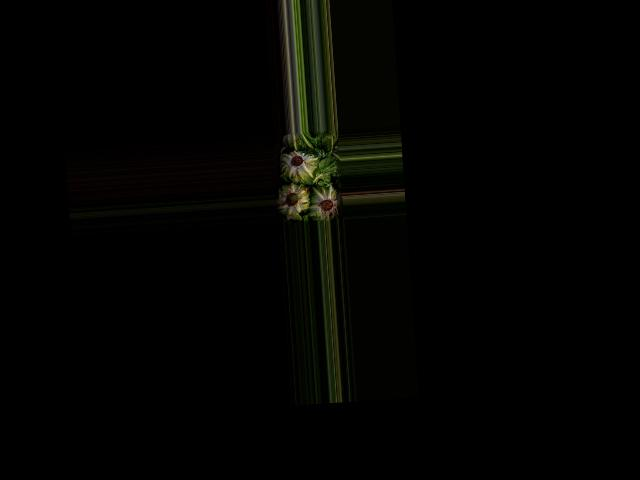lettuce: (307, 184, 339, 221)
